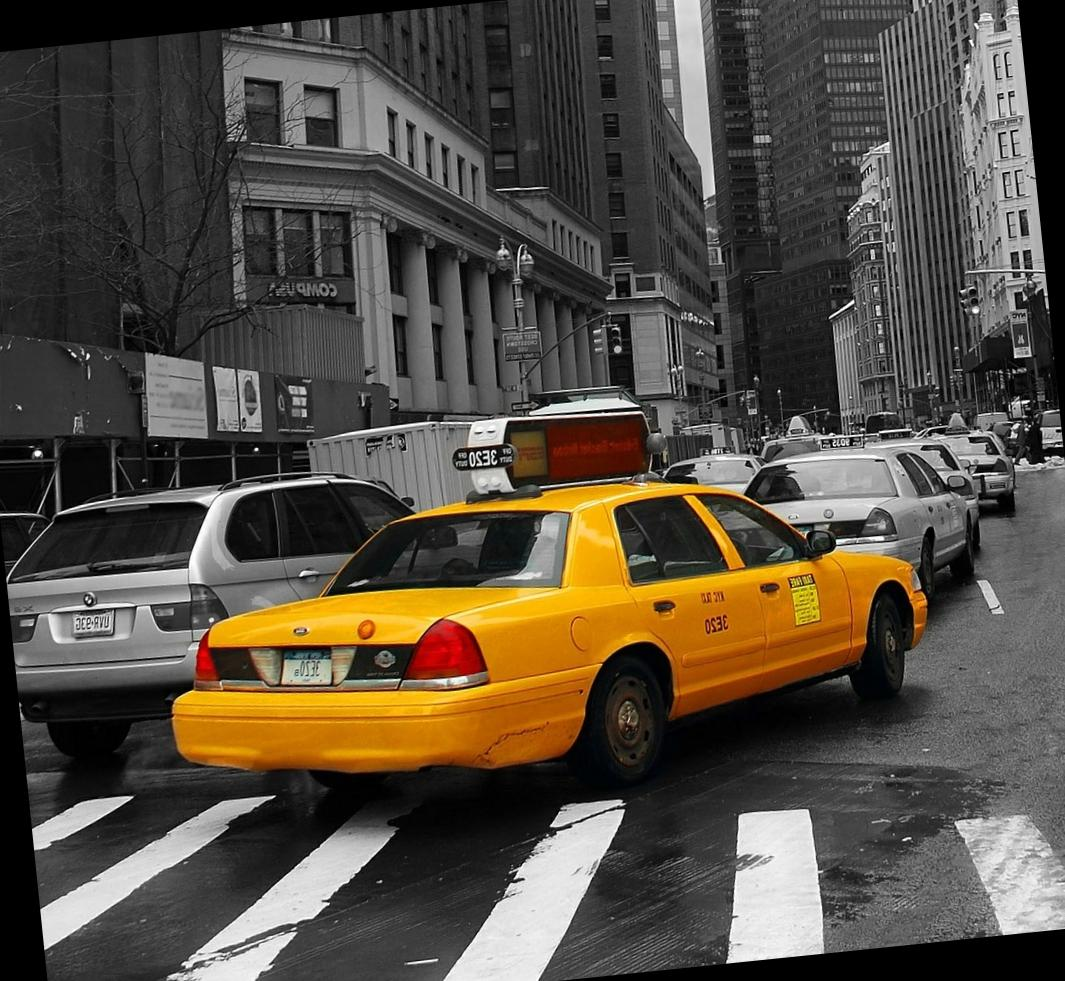taxi: (173, 476, 944, 802)
